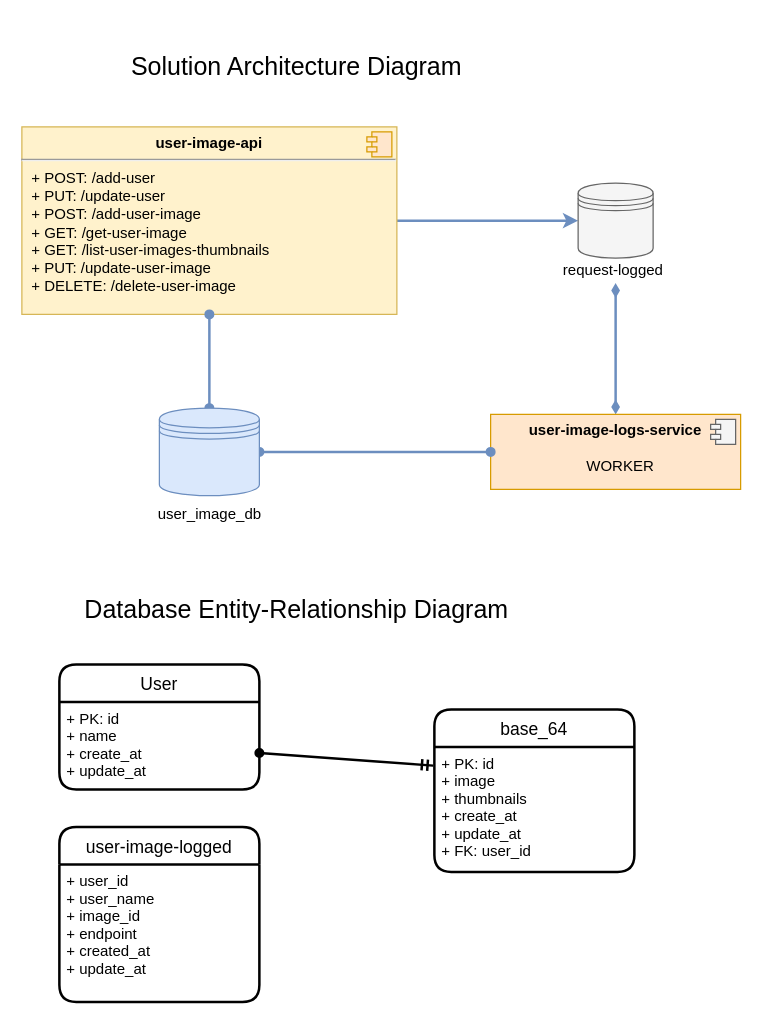
Image size: 763x1024. Some labels were removed from this diagram. The shapes that lost their labels are listed below. From the top down, each one's centre as x and y in pixels, then its label:
(x=615, y=220): RabbitMQ
(x=208, y=451): PostgreSQL
